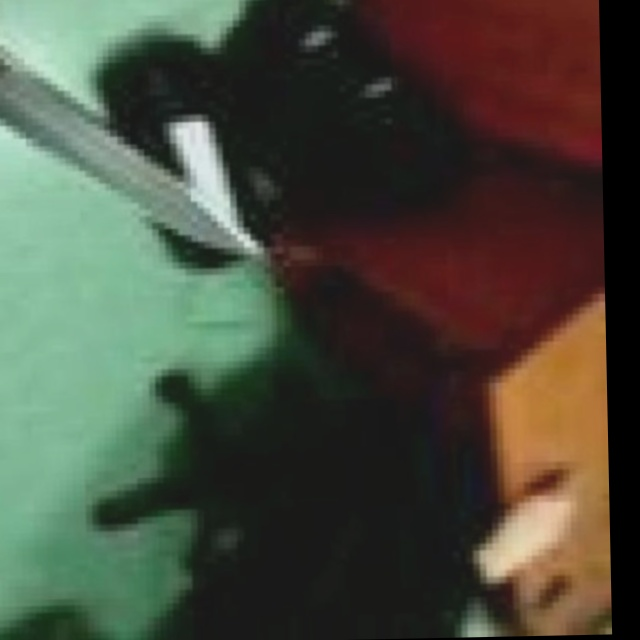Sharp-Object: (0, 20, 257, 255)
